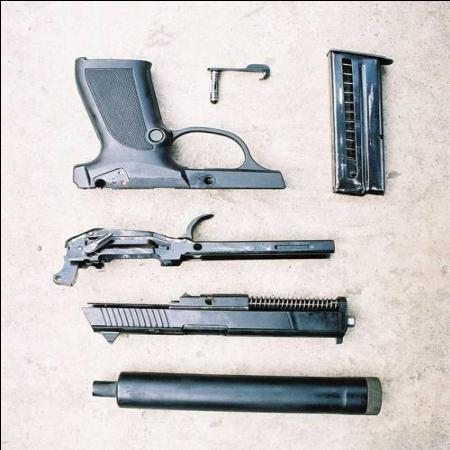Pistol: (73, 55, 332, 258)
